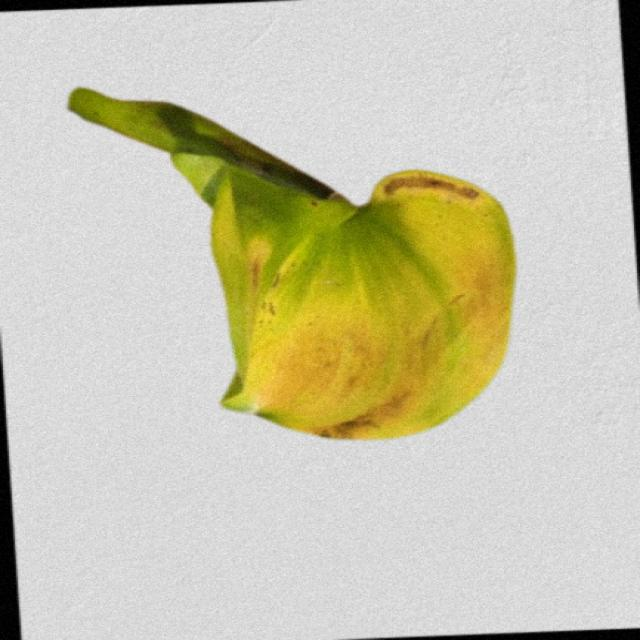daun berpenyakit kuning: (70, 89, 515, 438)
